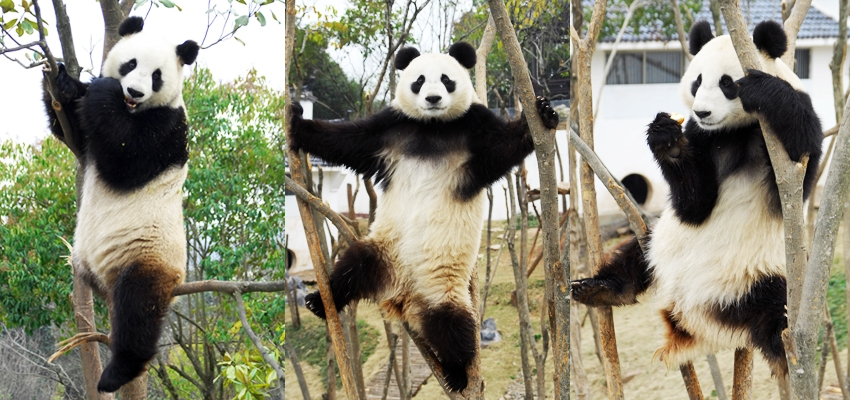panda: (285, 38, 562, 395), (574, 18, 823, 382), (41, 14, 202, 395)
